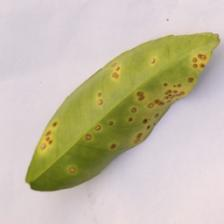canker: (87, 74, 184, 155)
